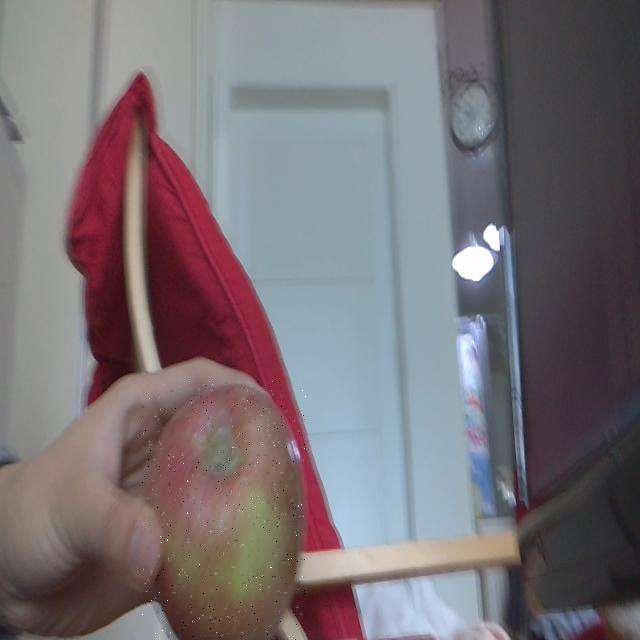apple: (141, 381, 306, 640)
